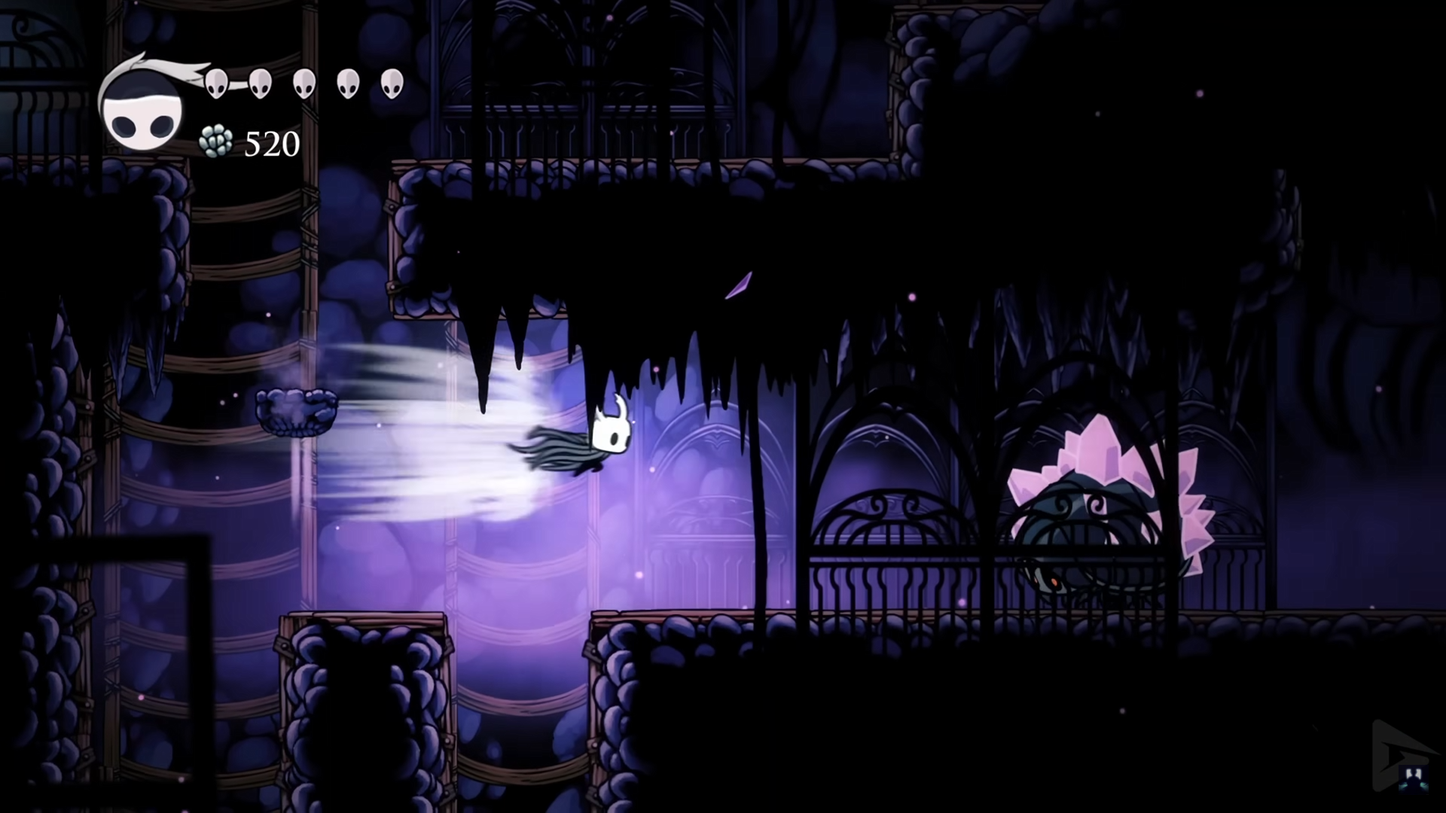HK: (575, 391, 637, 490)
